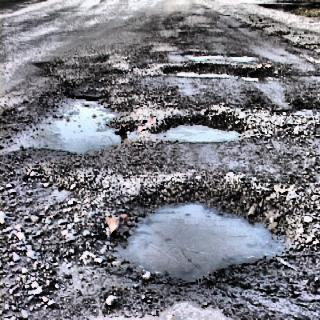pothole: (104, 177, 300, 299), (4, 79, 146, 163), (160, 48, 286, 88), (150, 103, 251, 149)
